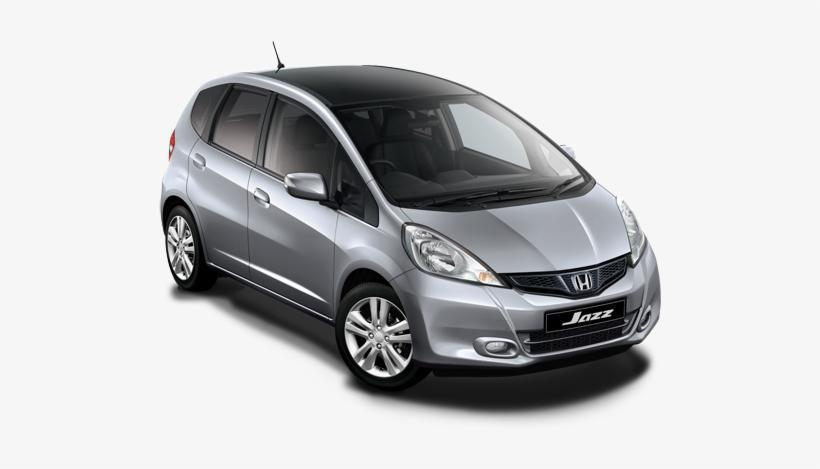Hatchback: (145, 57, 681, 389)
